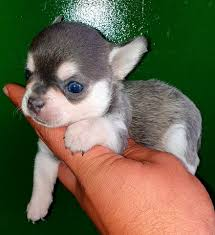chihuahua: (9, 10, 211, 219)
